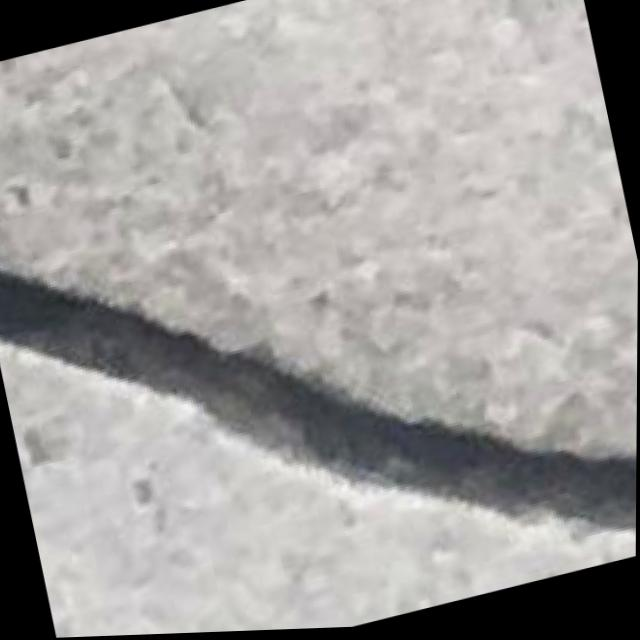Crack: (0, 108, 639, 640)
